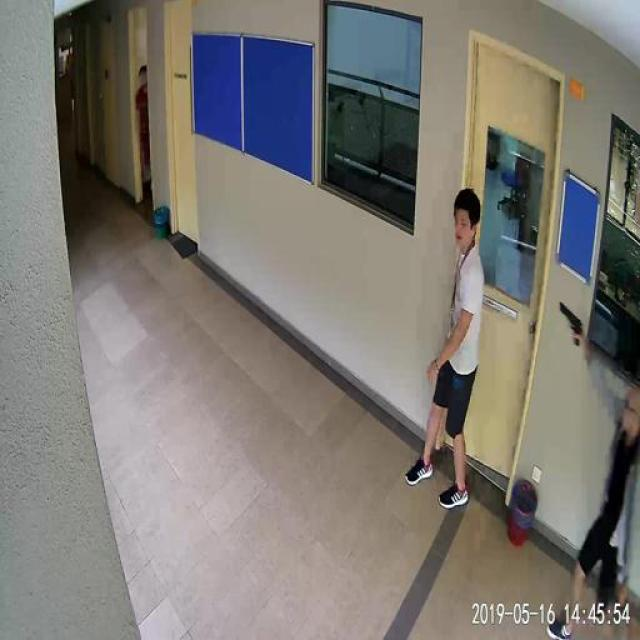senjata_api: (556, 301, 585, 348)
